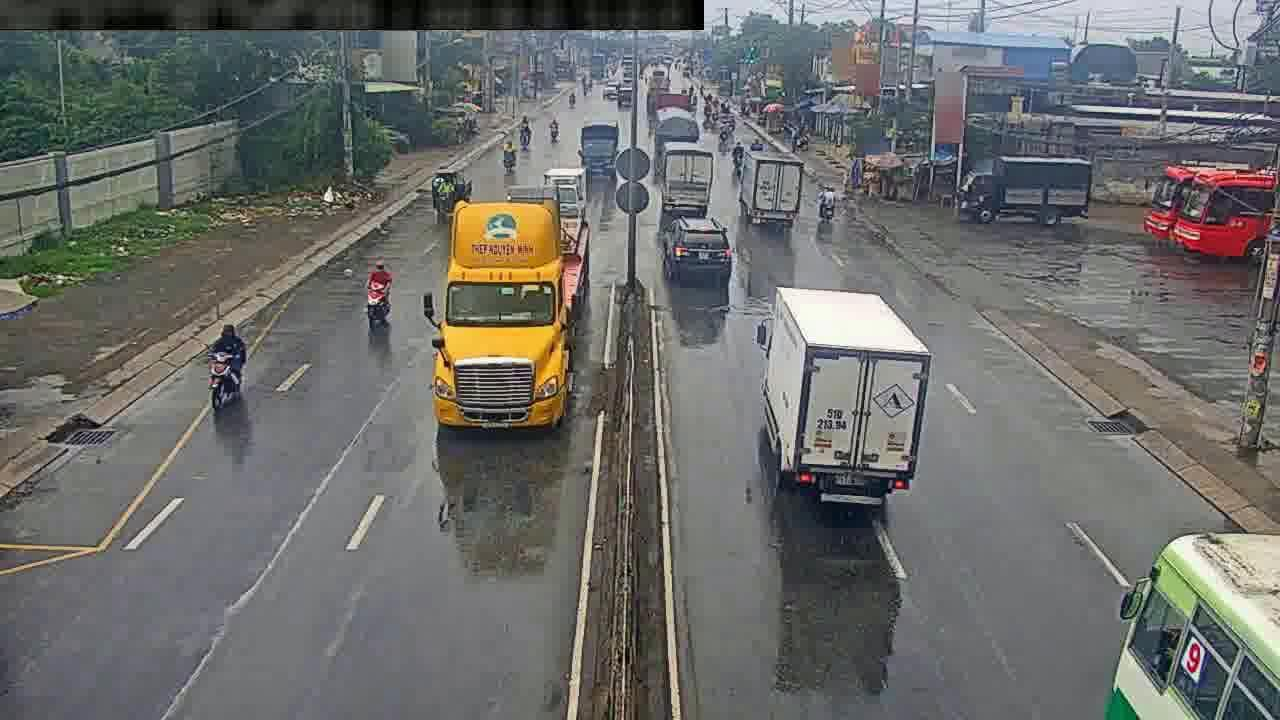14: (1106, 530, 1280, 720)
8: (755, 286, 933, 515), (426, 195, 591, 427), (661, 140, 715, 207), (749, 149, 799, 218), (578, 118, 620, 178)
container: (663, 215, 734, 284)
motorbike: (206, 317, 246, 410), (364, 259, 391, 330), (818, 179, 836, 226), (503, 138, 517, 172), (731, 136, 744, 172)
